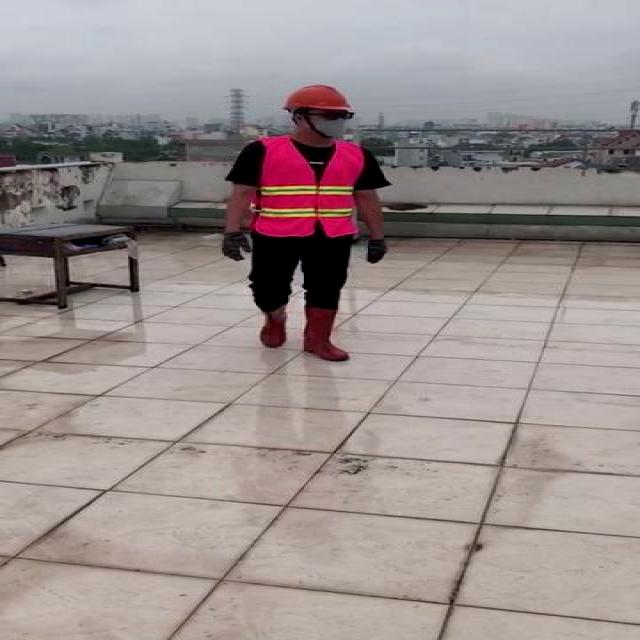boots: (298, 305, 348, 362), (256, 304, 290, 349)
face_mask: (307, 109, 358, 139)
glasses: (316, 110, 361, 122)
hand_glove: (218, 230, 250, 262), (361, 236, 389, 263)
head_helmet: (280, 84, 353, 112)
person: (212, 80, 401, 366)
vest: (254, 140, 363, 239)
